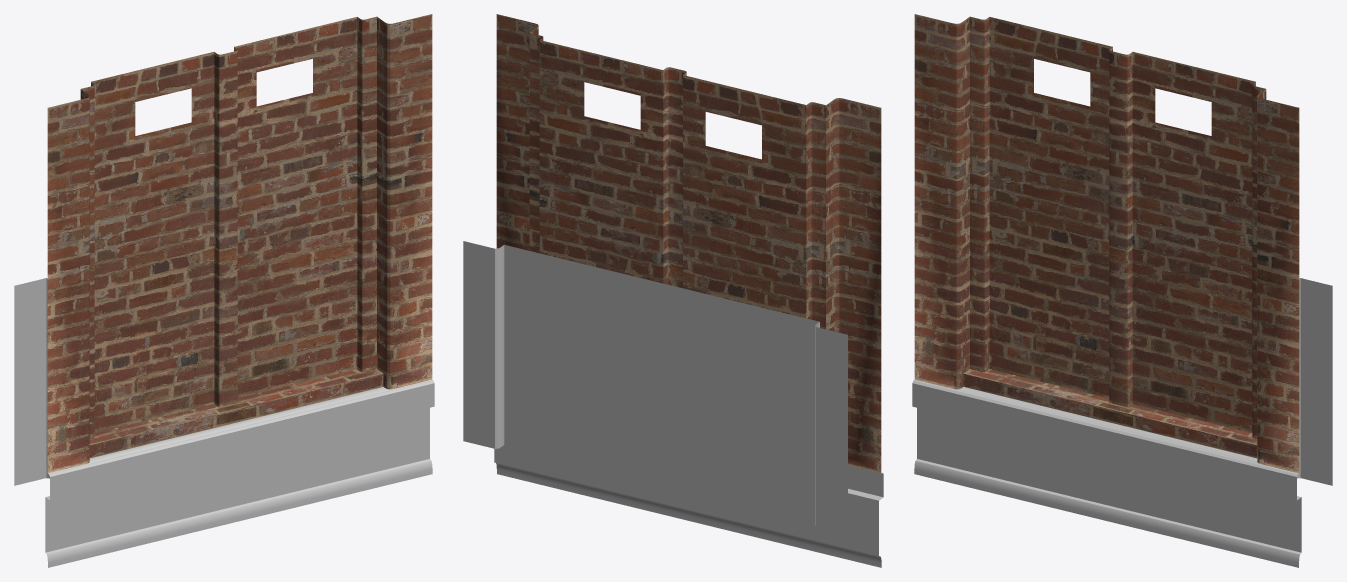
Rendered from SM_Wall_Windows_D_Top.fbx.
3 views of the same model, side by side, from view 1: azimuth 30°, elevation 25°; view 2: azimuth 150°, elevation 25°; view 3: azimuth 330°, elevation 25° (orthographic).
Visible parts, largest first — view 1: SM_Wall_Windows_D_Top; view 2: SM_Wall_Windows_D_Top; view 3: SM_Wall_Windows_D_Top.
Part boxes in pixels (x1,y1,x2,y2): SM_Wall_Windows_D_Top: (14,14,434,567); SM_Wall_Windows_D_Top: (463,14,883,567); SM_Wall_Windows_D_Top: (912,14,1332,567).
Size of the model in its own units: 700 by 112 by 800.
